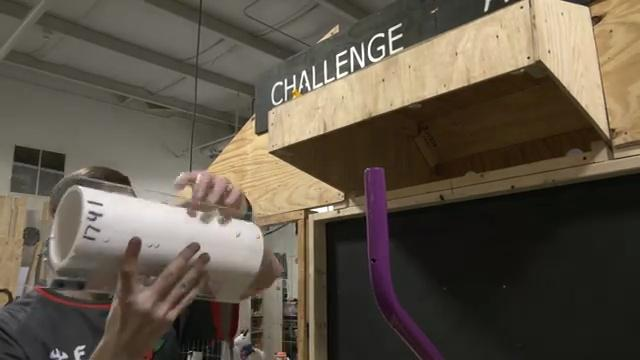CORAL: (46, 183, 267, 304)
